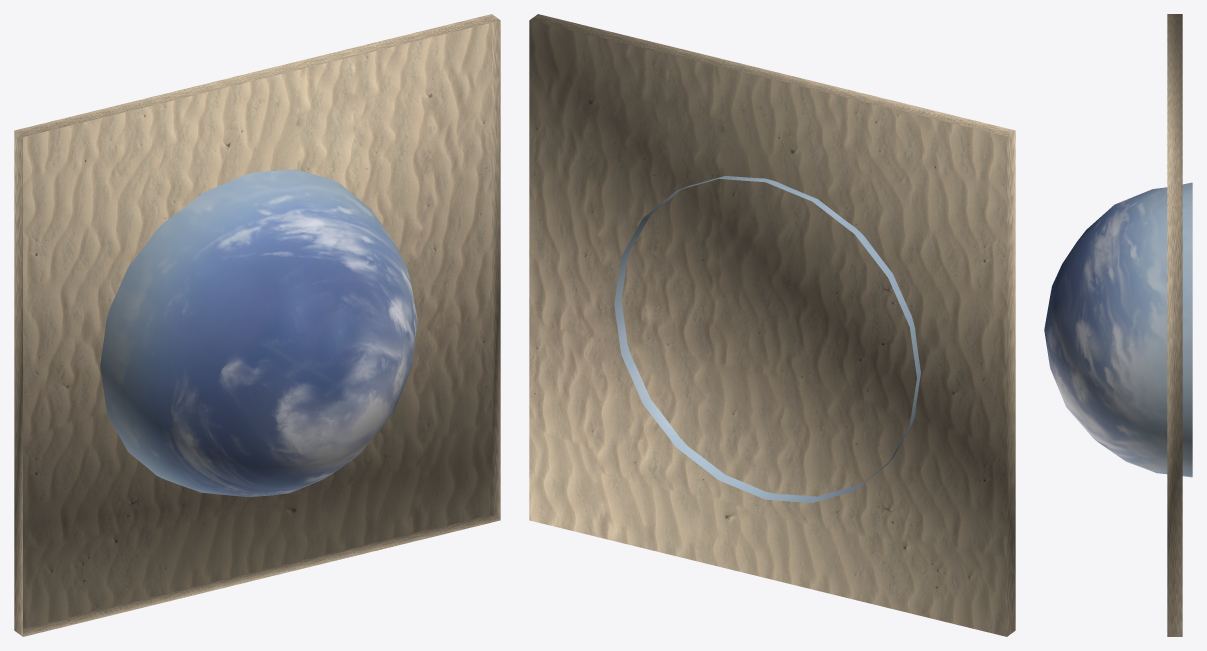
File: skybox_beach.fbx
3 renders of one model, left to right at view 1: azimuth 30°, elevation 25°; view 2: azimuth 150°, elevation 25°; view 3: azimuth 270°, elevation 25°, orthographic. The views are drawn at different scales.
Visible parts, largest first — view 1: Cube, Sphere_011; view 2: Cube, Sphere_011; view 3: Sphere_011, Cube.
Part boxes in pixels (box(x1,y1,x2,y2)): Cube: box(14, 14, 500, 636); Sphere_011: box(100, 169, 417, 497); Cube: box(529, 14, 1015, 636); Sphere_011: box(614, 176, 920, 502); Sphere_011: box(1044, 182, 1192, 477); Cube: box(1167, 14, 1182, 636).
Bounding box in the file's own units: 1500 × 1500 × 475.
Materials: 2 (2 with a texture image).
